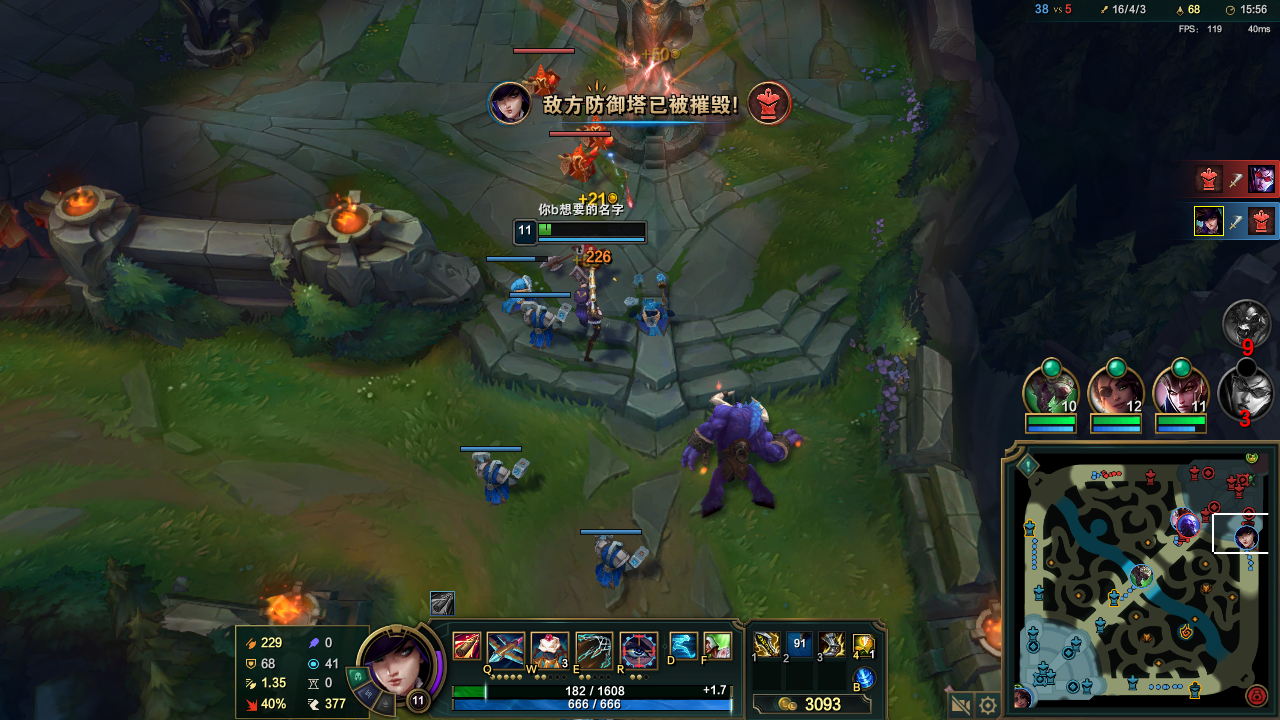DFXB: (579, 118, 616, 150), (559, 152, 592, 185), (524, 71, 555, 94)
WFXB: (584, 533, 650, 579), (470, 457, 527, 500), (521, 299, 563, 352), (504, 276, 531, 305)
